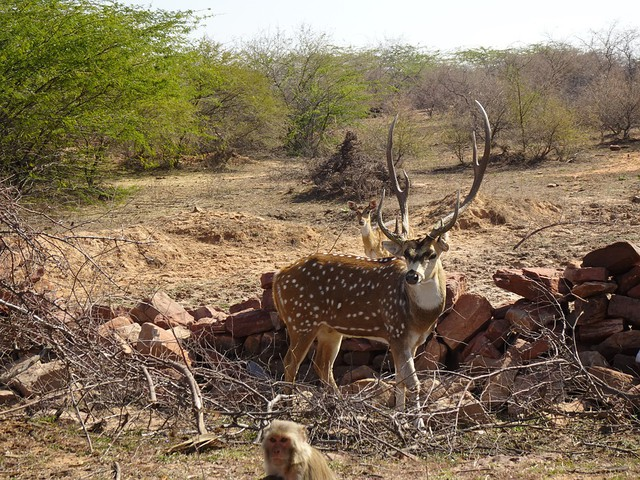deer: (272, 236, 449, 411), (333, 188, 387, 257)
